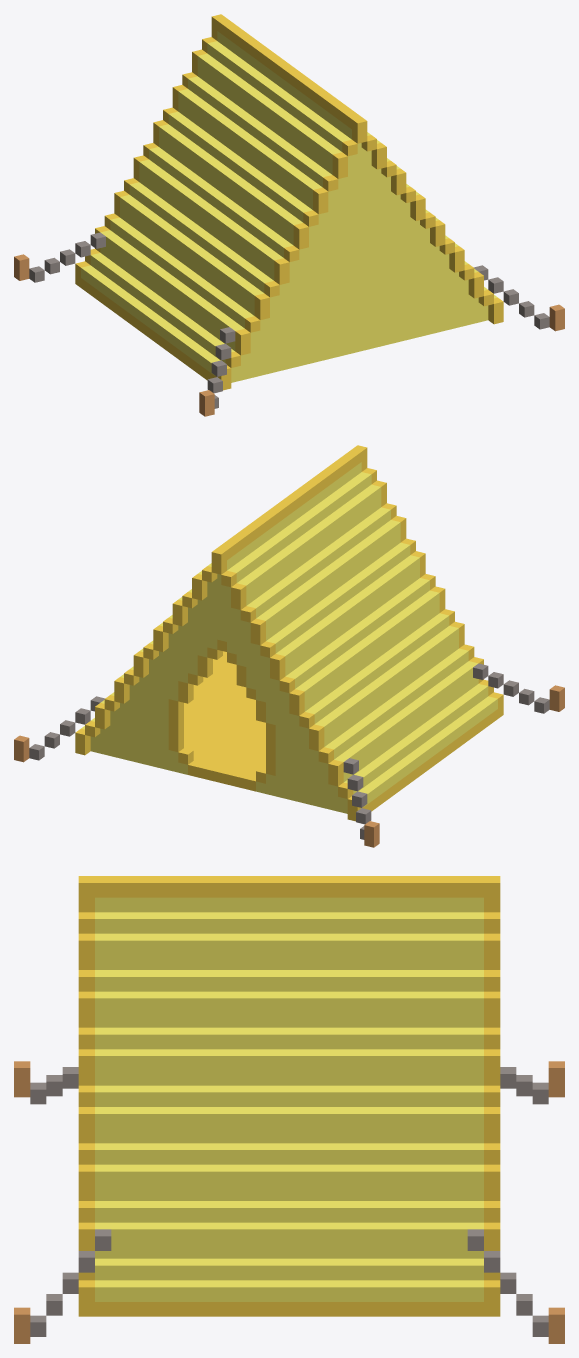
File: Tent.obj
3 views of the same model, one above another, from view 1: azimuth 30°, elevation 25°; view 2: azimuth 150°, elevation 25°; view 3: azimuth 270°, elevation 25° (orthographic). The views are drawn at different scales.
Bounding box in the file's own units: 3.7 × 2.3 × 3.4.
1 material, 1 textured.
